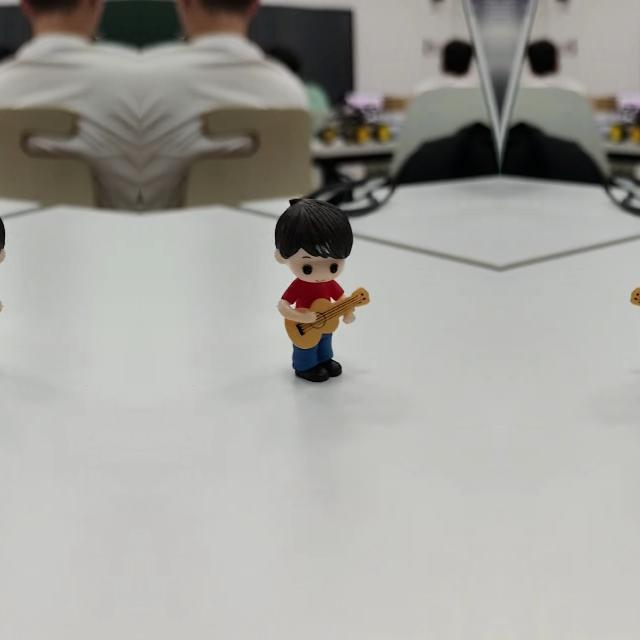man head: (278, 196, 356, 288), (0, 196, 1, 287)
trousers: (290, 329, 342, 381), (281, 278, 343, 308)
